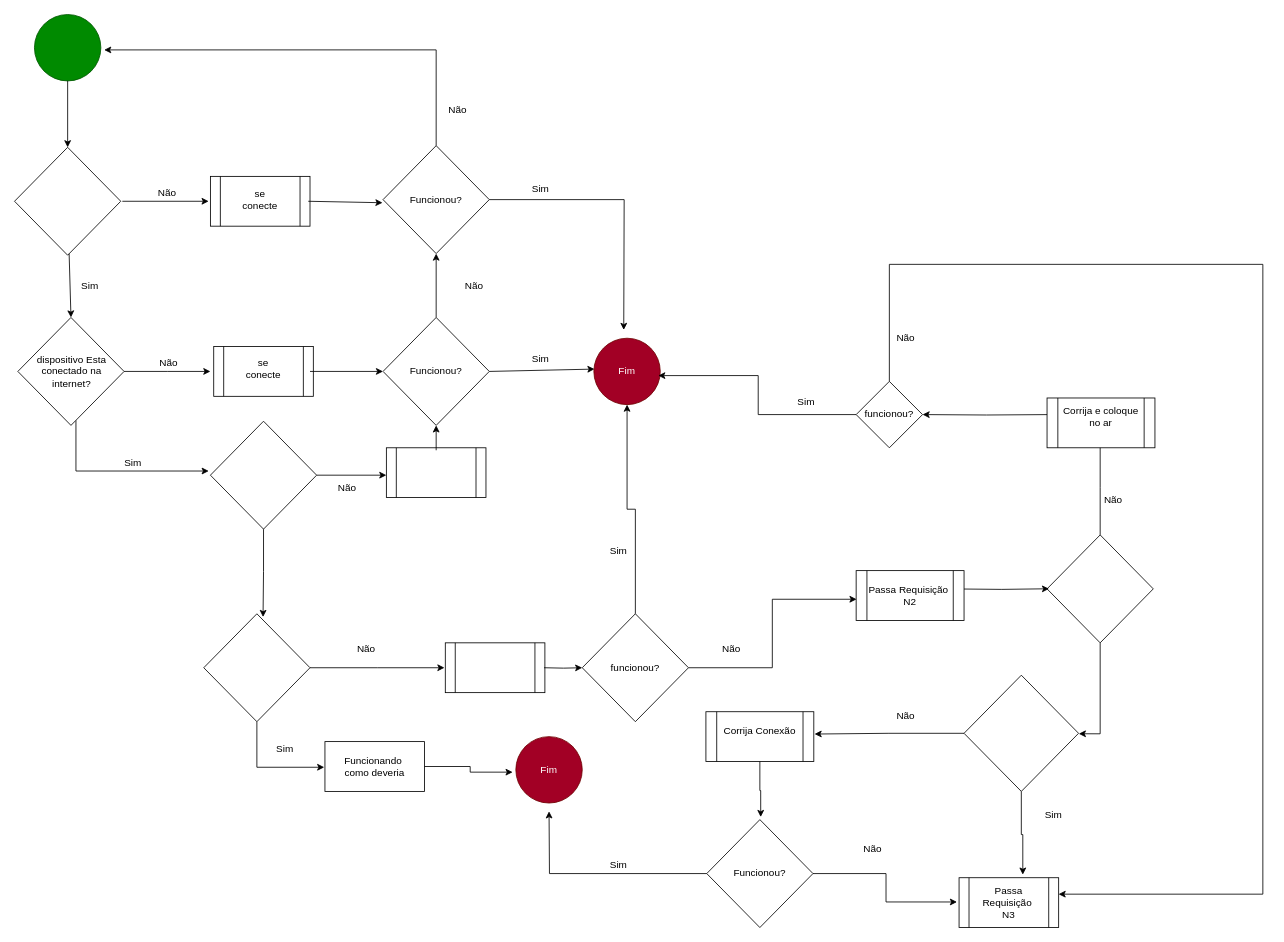
Some shapes in this 1284 by 942 pixel diagram are drawn without their labels. The centre of each missing label's shape, as x and y in pixels:
"Aparece os graficos e KPI?" belongs at point 256,667.
"dispositivo Esta conectado na energia?" belongs at point 67,200.
"Esta logado?" belongs at point 263,474.
"Faça login" belongs at point 436,472.
"Limpe o Cache e reinicie o navegador" belongs at point 494,667.
"Problema Funcionarios" belongs at point 67,47.
"Site está no ar corretamente?" belongs at point 1099,588.
"Tem Conexão com Banco de Dados?" belongs at point 1021,732.
